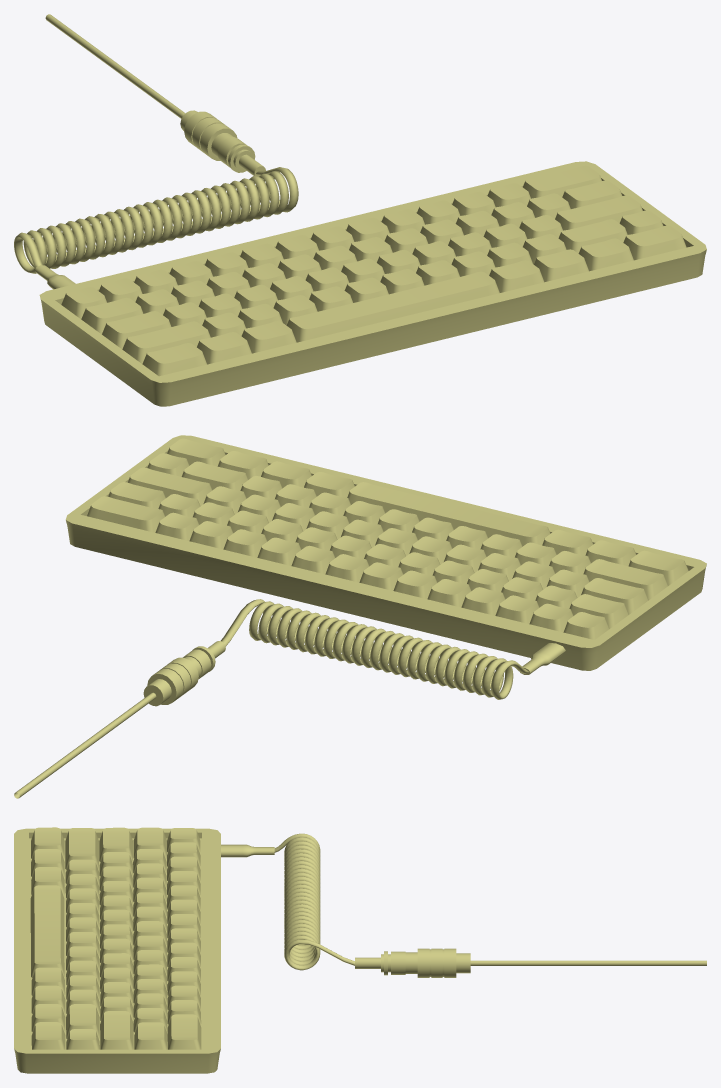
File: keyboard-transparent9.glb
3 renders of one model, top to bottom at view 1: azimuth 30°, elevation 25°; view 2: azimuth 150°, elevation 25°; view 3: azimuth 270°, elevation 25°, orthographic. The views are drawn at different scales.
Parts seen in each view (by area): view 1: sm_keyboard; view 2: sm_keyboard; view 3: sm_keyboard.
Part boxes in pixels (left/top/right/bottom): sm_keyboard: left=14, top=14, right=706, bottom=406; sm_keyboard: left=14, top=435, right=706, bottom=798; sm_keyboard: left=14, top=827, right=706, bottom=1073.
Size of the model in its own units: 0.3754 by 0.0277 by 0.4888.
